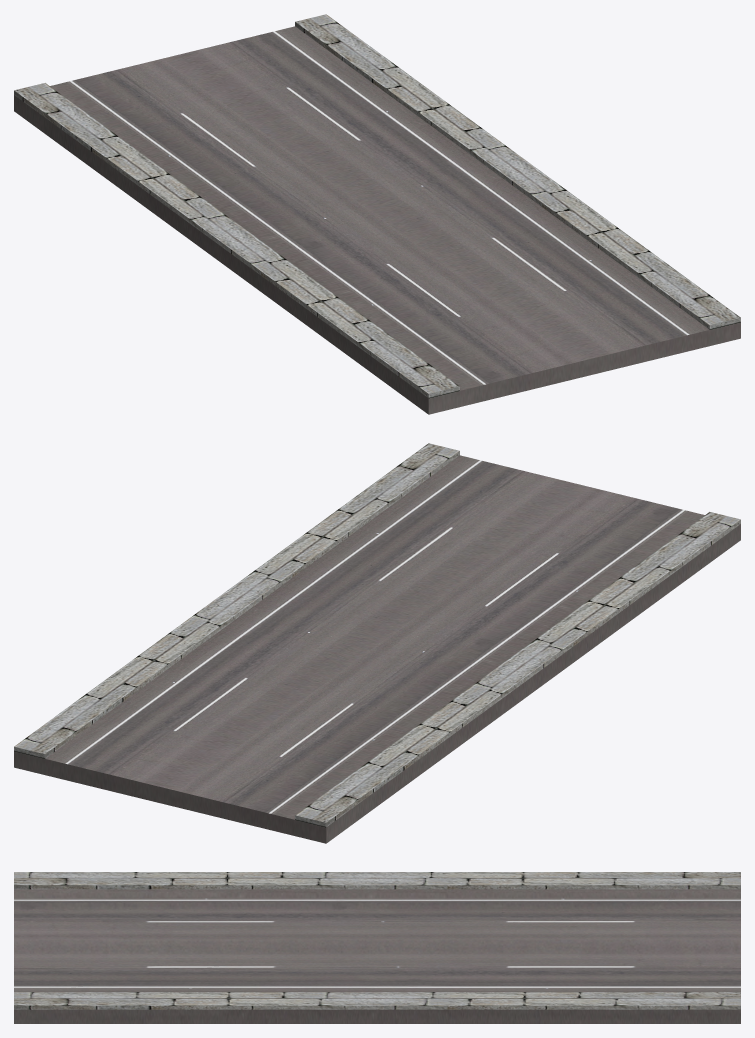
Rendered from - Road(Large).FBX.
The picture shows the model from 3 angles, top to bottom: view 1: azimuth 30°, elevation 25°; view 2: azimuth 150°, elevation 25°; view 3: azimuth 270°, elevation 25°; orthographic projection. The views are drawn at different scales.
Parts seen in each view (by area): view 1: l Road(Large); view 2: l Road(Large); view 3: l Road(Large).
Boxes of the visible parts, x1=… form: l Road(Large): x1=14, y1=14, x2=740, y2=414; l Road(Large): x1=14, y1=443, x2=740, y2=843; l Road(Large): x1=14, y1=872, x2=740, y2=1023.
Size of the model in its own units: 1000 by 63.69 by 2300.
